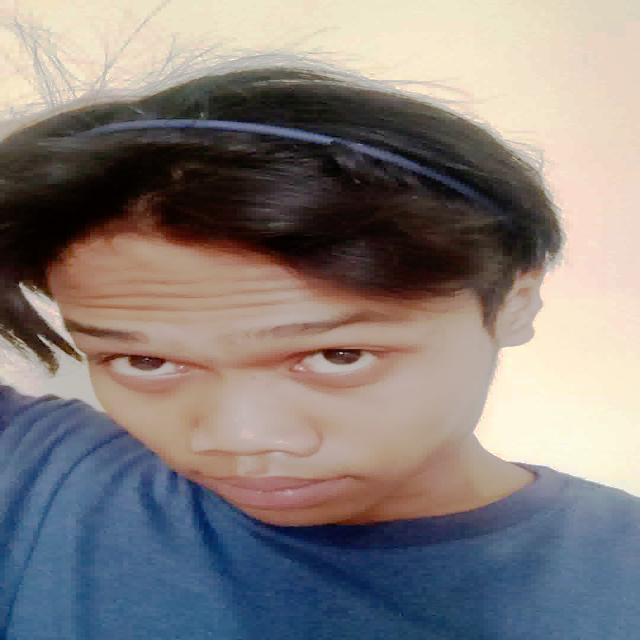TOPI: (0, 59, 573, 313)
